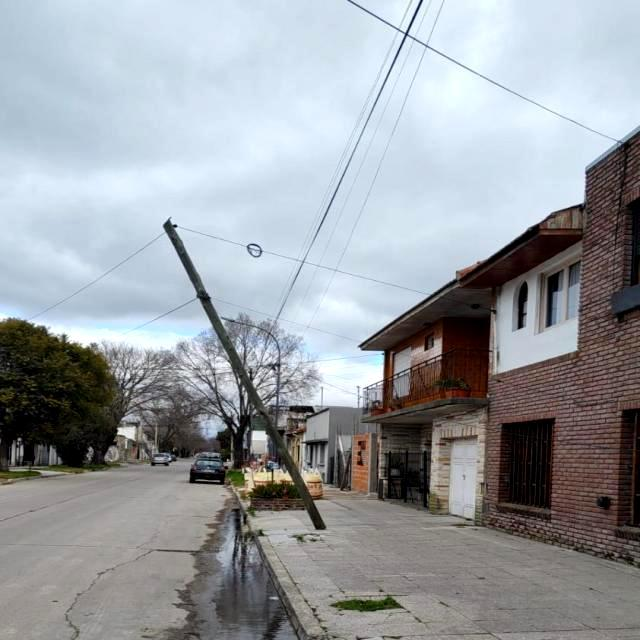Broken Pole: (162, 219, 327, 530)
